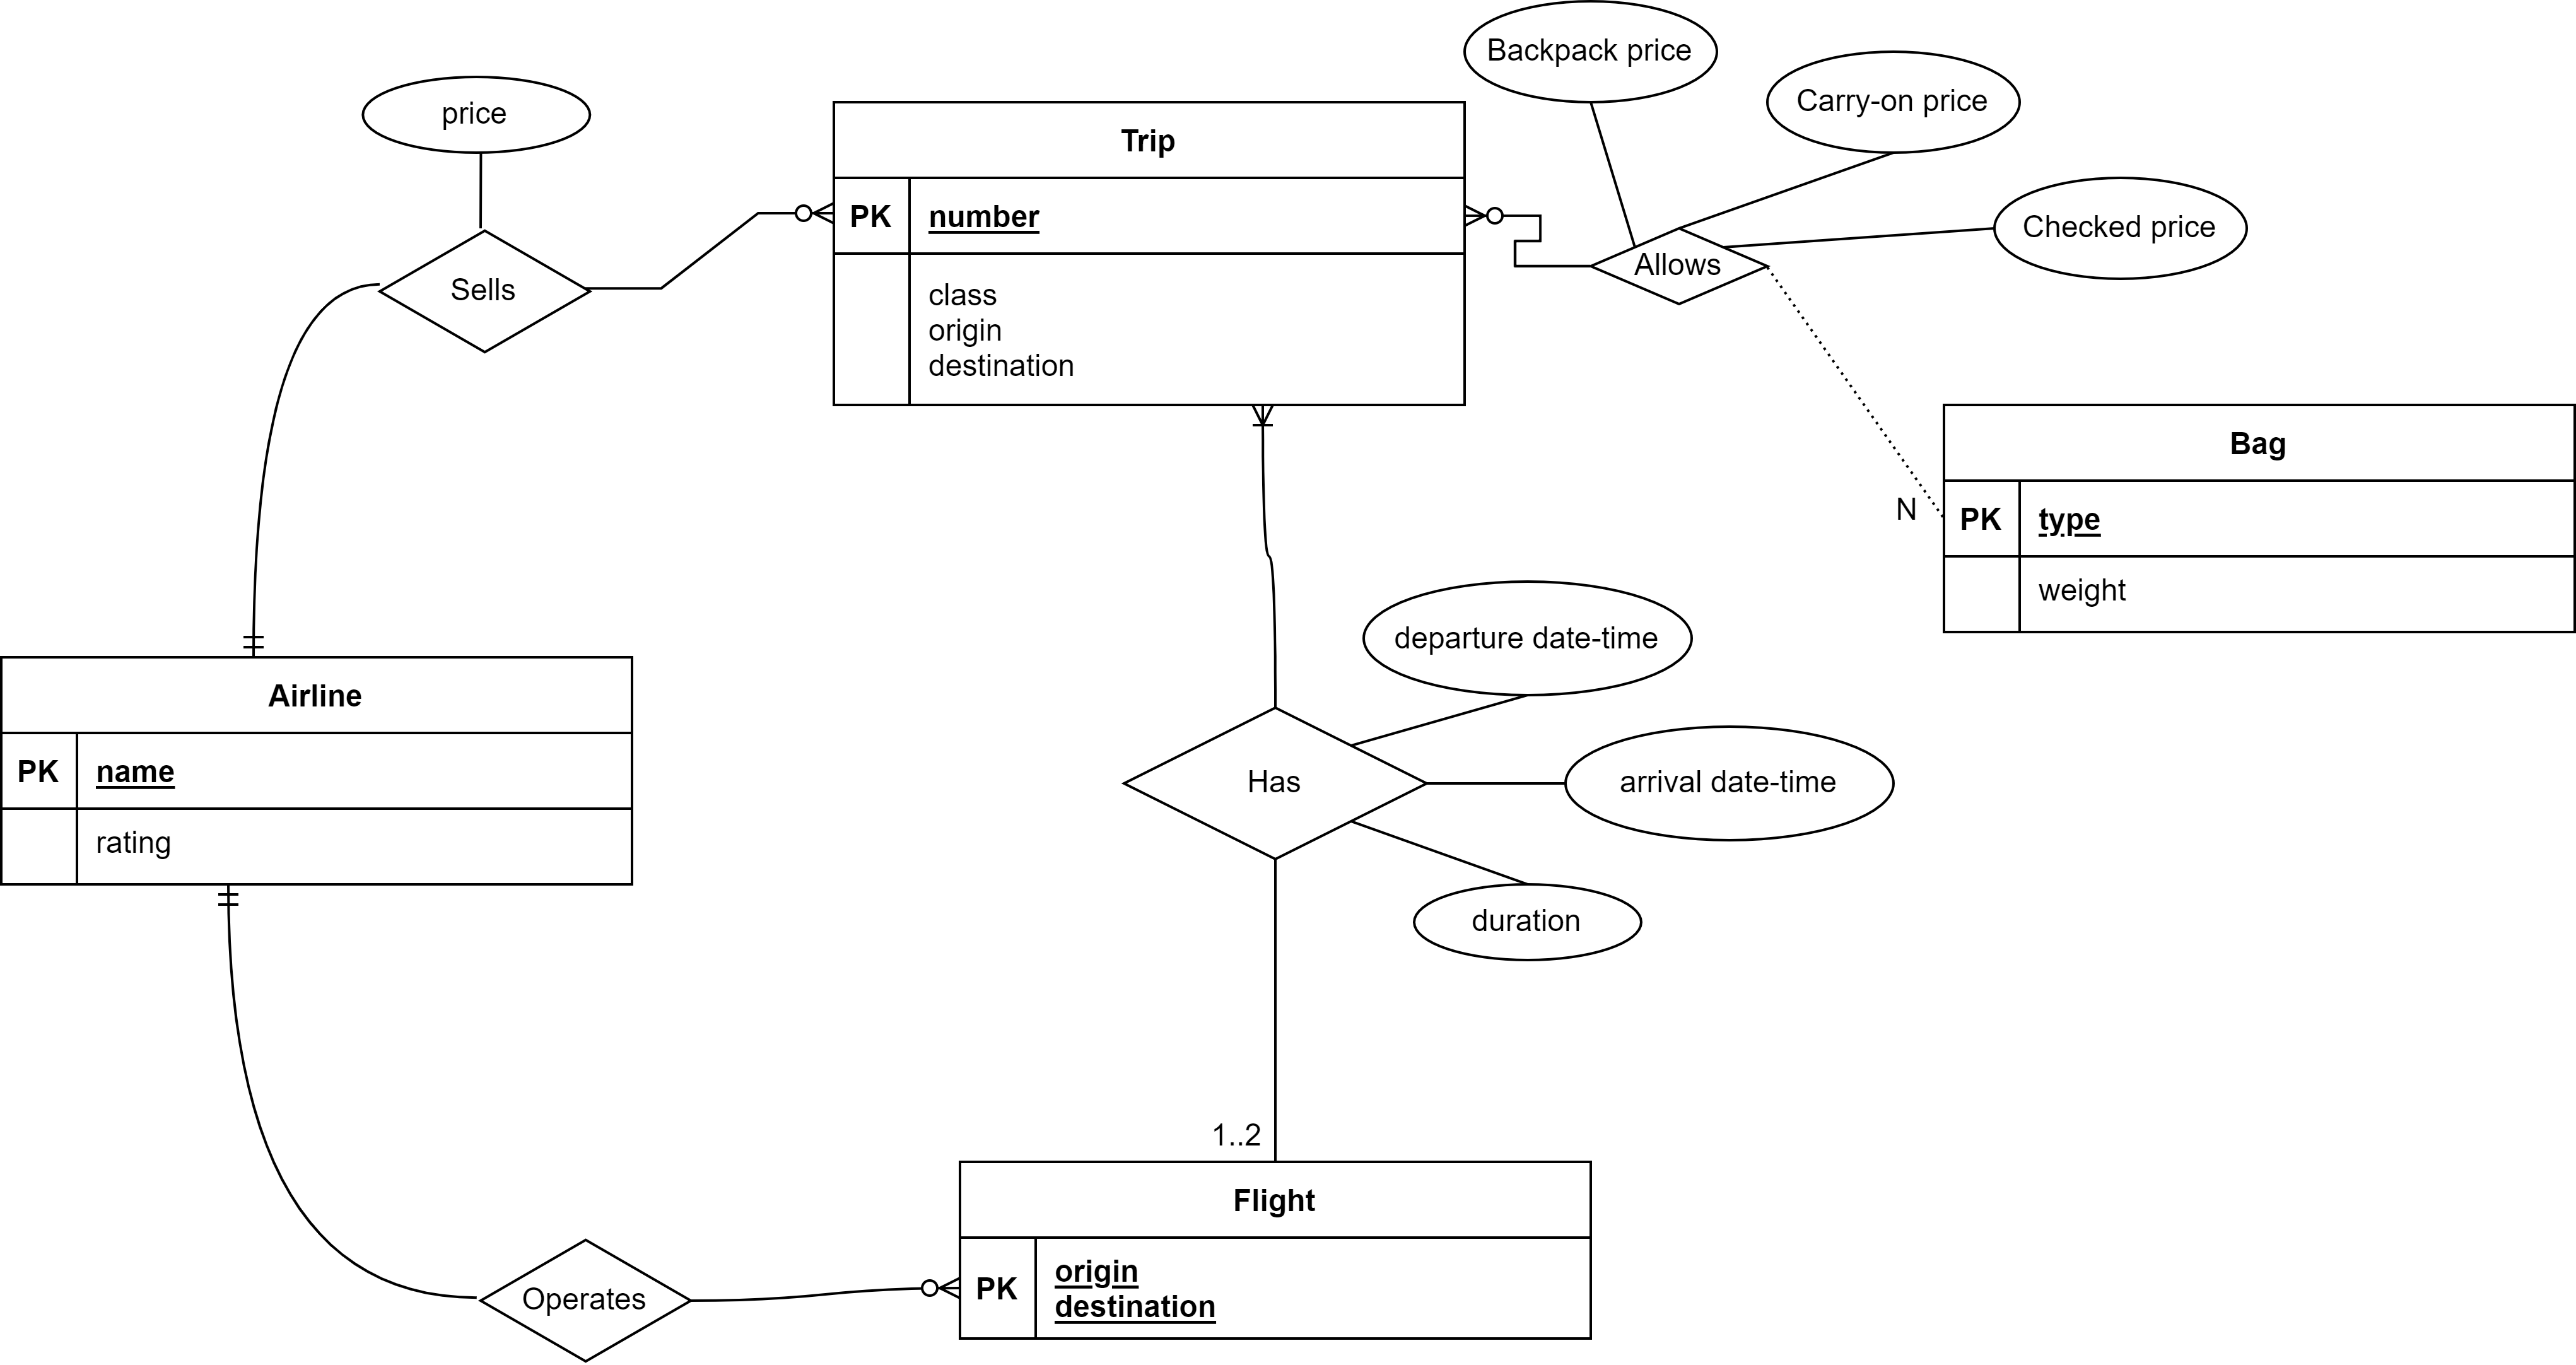entity: (833, 99, 1462, 406), (1942, 400, 2576, 636), (2, 659, 630, 878), (961, 1166, 1590, 1343)
many: (1242, 404, 1279, 511), (876, 1266, 963, 1302), (1463, 203, 1545, 239), (762, 194, 835, 228)
one: (218, 886, 245, 968), (245, 595, 273, 665)
rel: (1124, 711, 1426, 855), (484, 1244, 687, 1365), (383, 230, 586, 349), (1588, 228, 1765, 307)
rel_attr: (1566, 721, 1895, 840), (1361, 579, 1688, 695), (1460, 0, 1722, 102), (1997, 177, 2247, 279), (1767, 51, 2021, 150), (363, 78, 591, 155), (1417, 886, 1641, 963)
